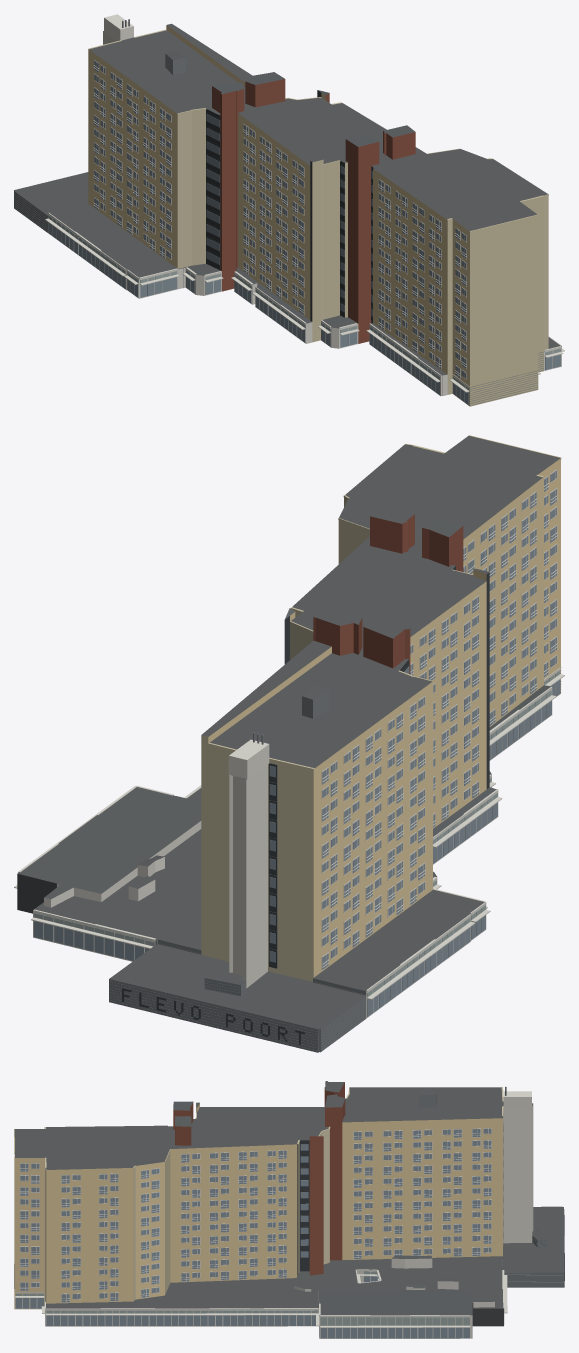
Rendered from kramatplantsoen.glb.
The picture shows the model from 3 angles, top to bottom: view 1: azimuth 30°, elevation 25°; view 2: azimuth 150°, elevation 25°; view 3: azimuth 270°, elevation 25°; orthographic projection. The views are drawn at different scales.
Parts seen in each view (by area): view 1: kramatplantsoen; view 2: kramatplantsoen; view 3: kramatplantsoen.
Boxes of the visible parts, box(x1,y1,x2,y2) form: kramatplantsoen: box(14, 14, 564, 406); kramatplantsoen: box(14, 435, 564, 1052); kramatplantsoen: box(14, 1081, 564, 1338).
Size of the model in its own units: 61.72 by 40.93 by 120.
